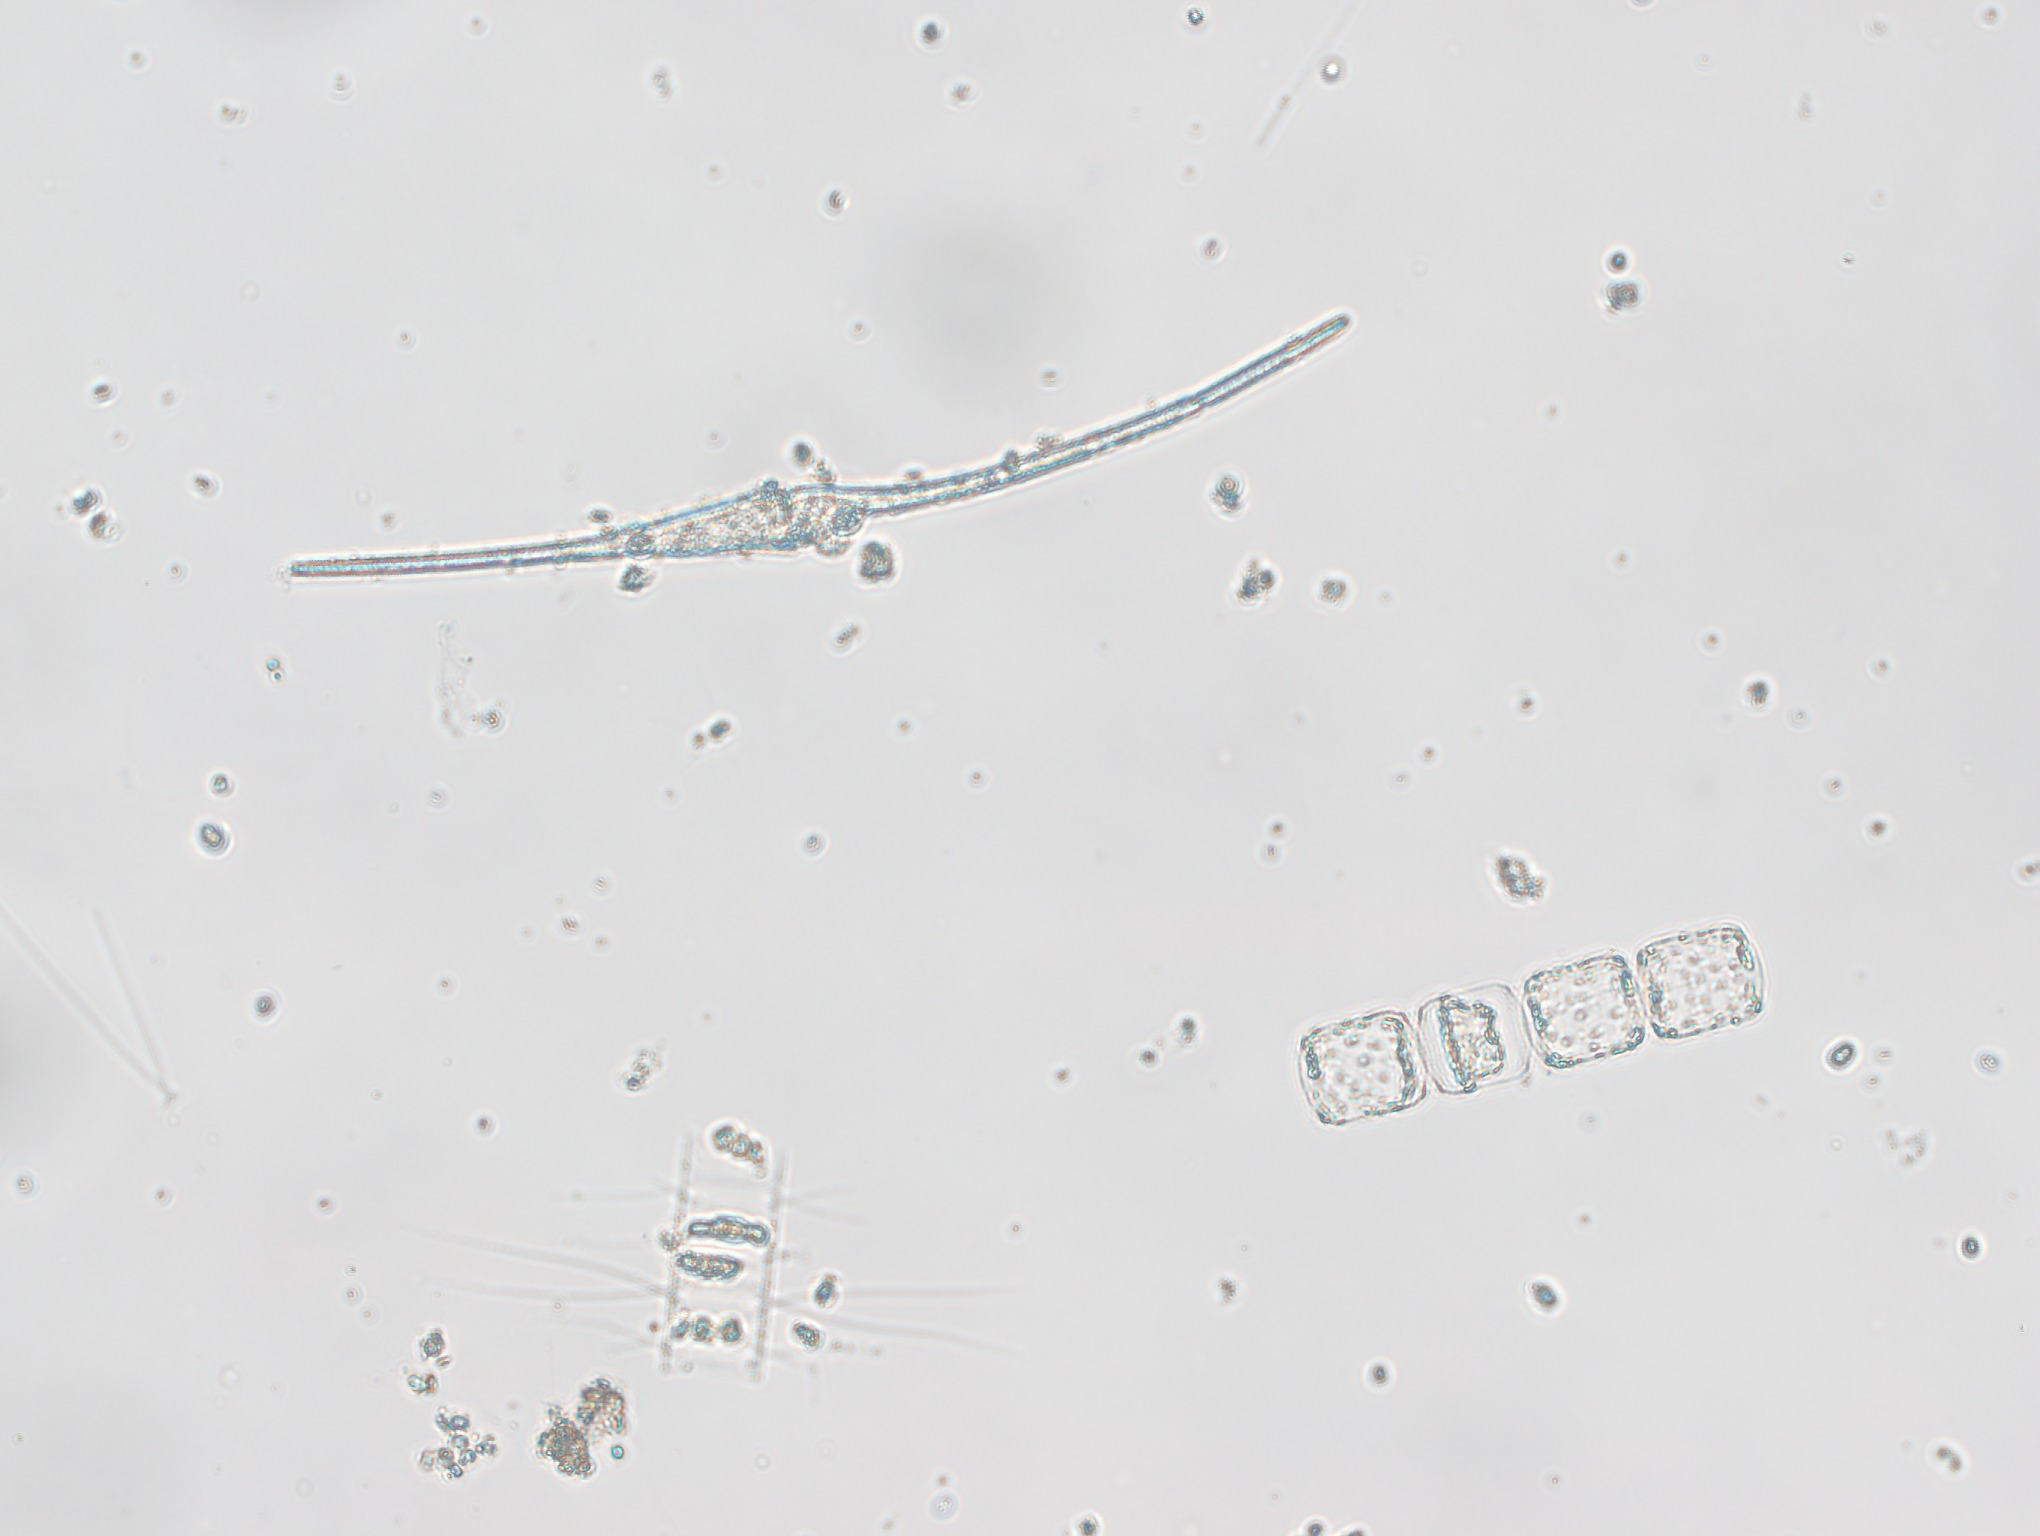ceratium fusus: (269, 303, 1372, 594)
chaetoceros: (424, 1079, 1026, 1426)
detonula pumila: (1282, 912, 1835, 1137)
